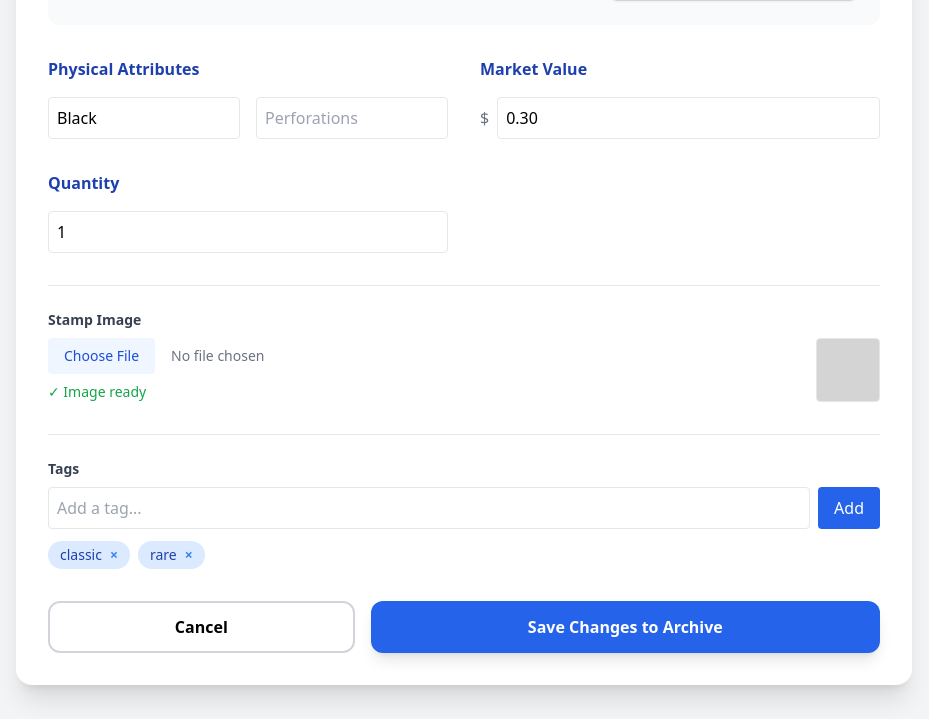
Scenario: EditStampPage - tag editing › removes a tag when × is clicked
(page scrolled)
Check: the text "classic" is shown, box [60,545,102,564]
Find the × button next to 'classic'
Click the button "×" next to "classic" at [114, 555], box [110,545,118,565]
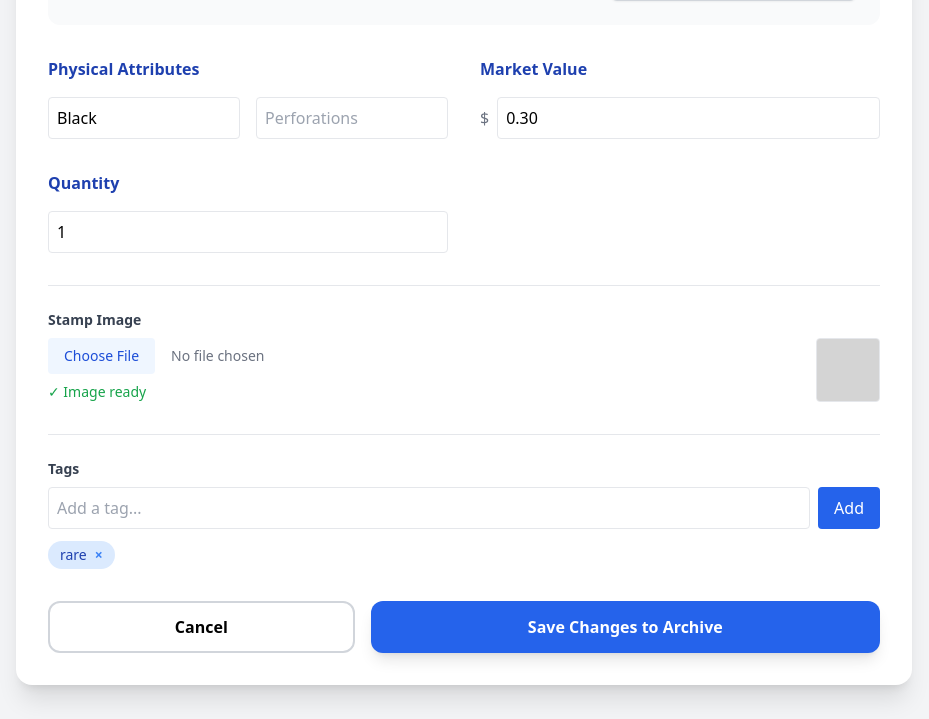
Check: the text "rare" is shown, box [60,545,87,564]
Check: the text "classic" is gone
